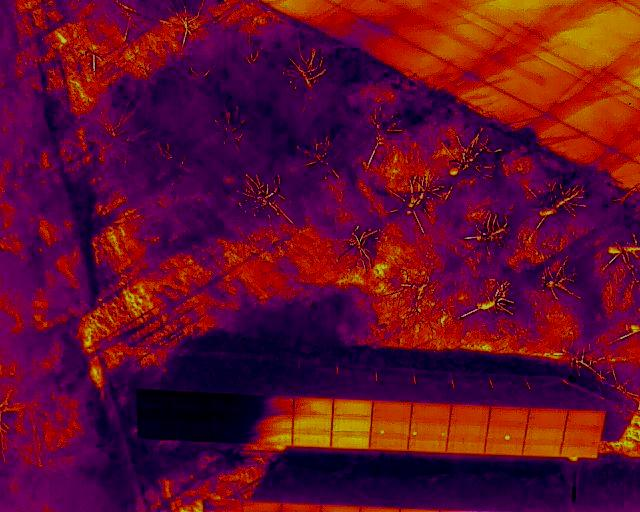Cell: (371, 418, 409, 434), (488, 422, 526, 438)
Cell-Multi: (410, 420, 449, 436)
No-Anomaly: (294, 396, 332, 415), (411, 402, 450, 420), (333, 399, 372, 417), (332, 415, 370, 433), (295, 414, 332, 432), (528, 408, 567, 425), (566, 409, 605, 426), (451, 404, 489, 421), (489, 407, 529, 423), (372, 402, 411, 418), (371, 434, 409, 450), (448, 422, 486, 438), (523, 439, 560, 455), (484, 439, 523, 454), (409, 437, 448, 452), (525, 424, 564, 439), (331, 433, 369, 448), (564, 425, 602, 440), (562, 440, 597, 456), (447, 437, 484, 452), (294, 433, 329, 448)
Shadowing: (216, 394, 258, 413), (174, 390, 216, 408), (294, 396, 332, 415), (174, 408, 215, 425), (214, 413, 257, 429), (174, 426, 213, 443), (137, 390, 173, 408), (138, 407, 174, 425), (215, 431, 258, 446), (259, 397, 294, 415), (257, 414, 293, 431), (258, 433, 294, 446), (138, 426, 174, 439)
